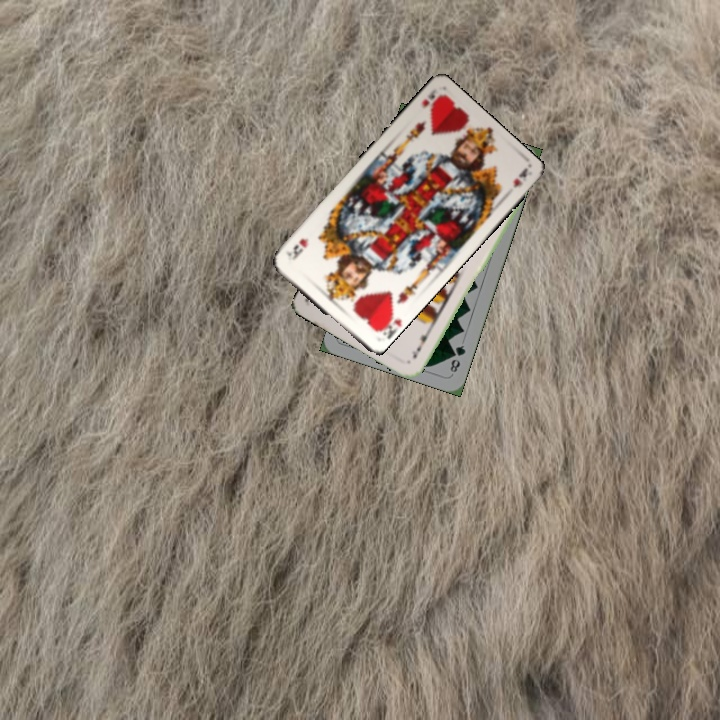E7: (407, 328, 433, 361)
G8: (446, 341, 468, 375)
HK: (371, 305, 399, 340), (418, 86, 438, 111)
